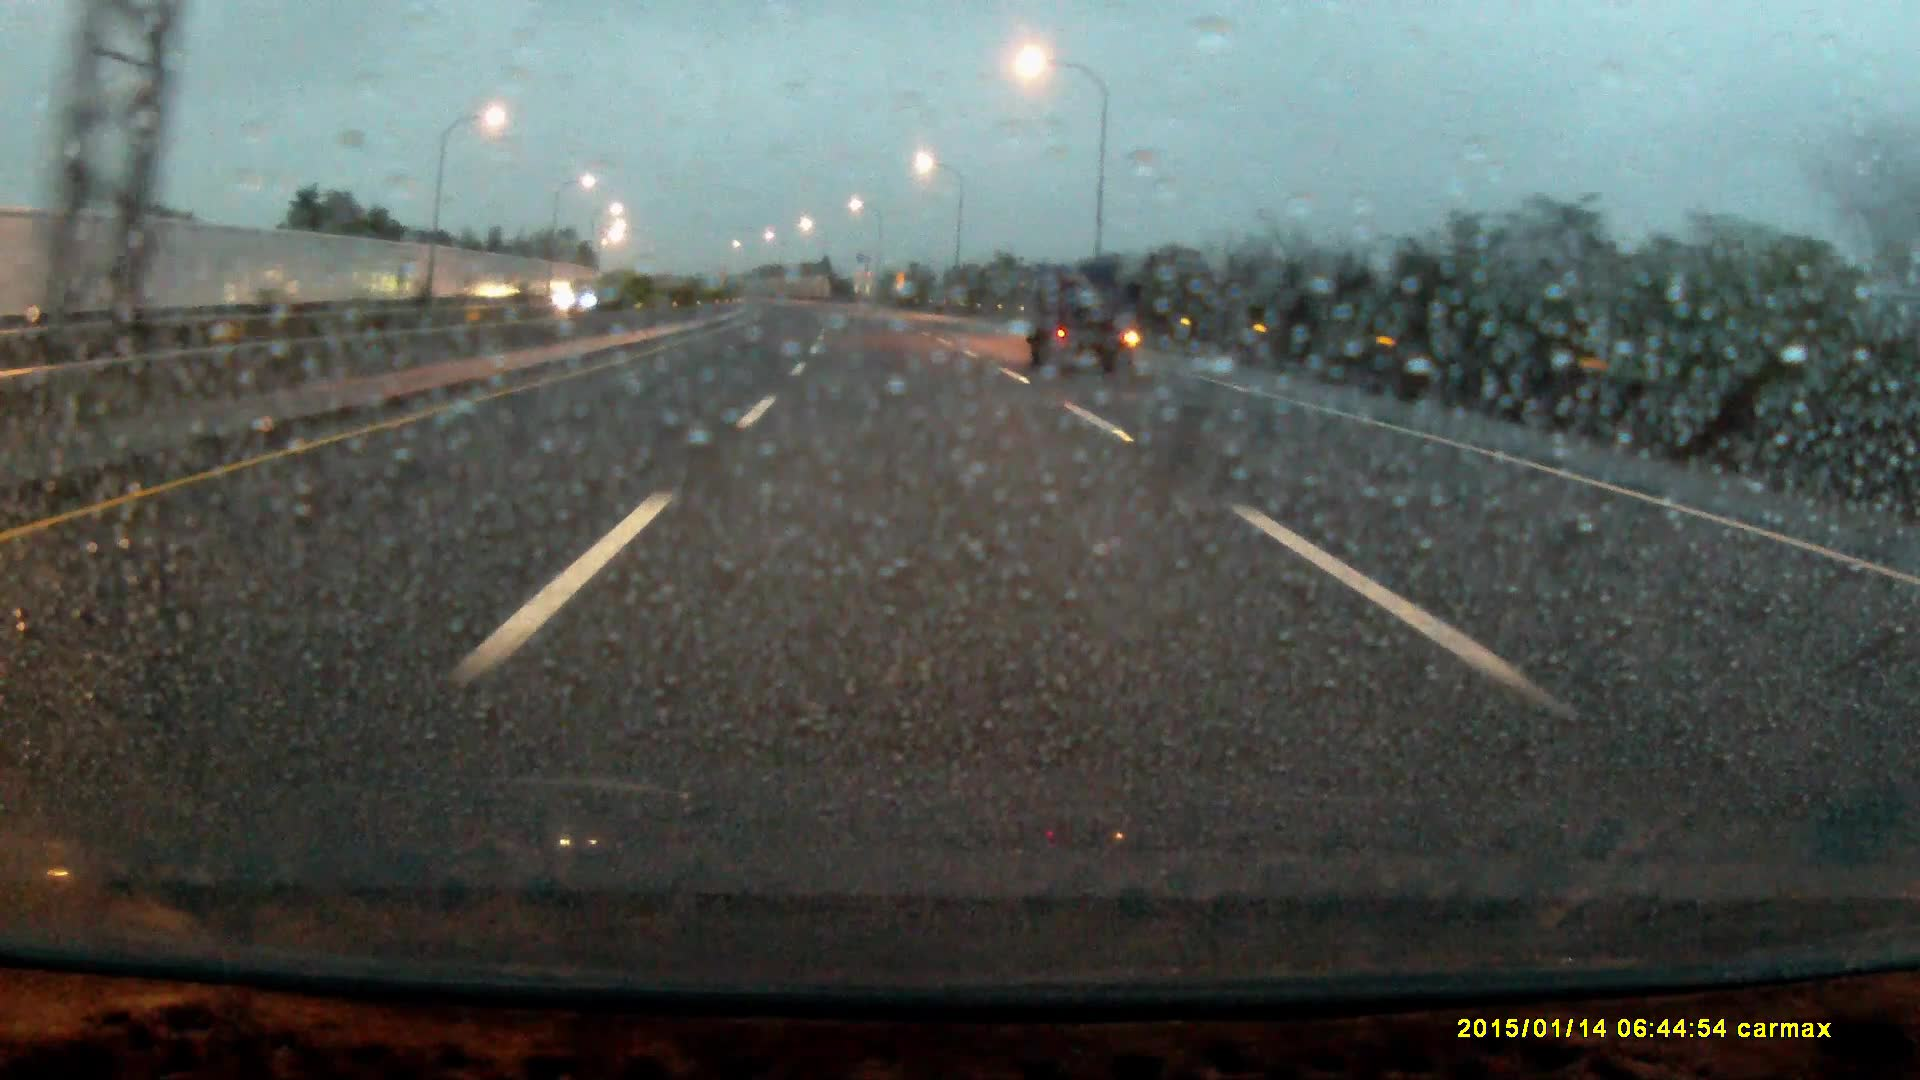vehicle: (1030, 273, 1137, 377), (550, 284, 603, 316)
